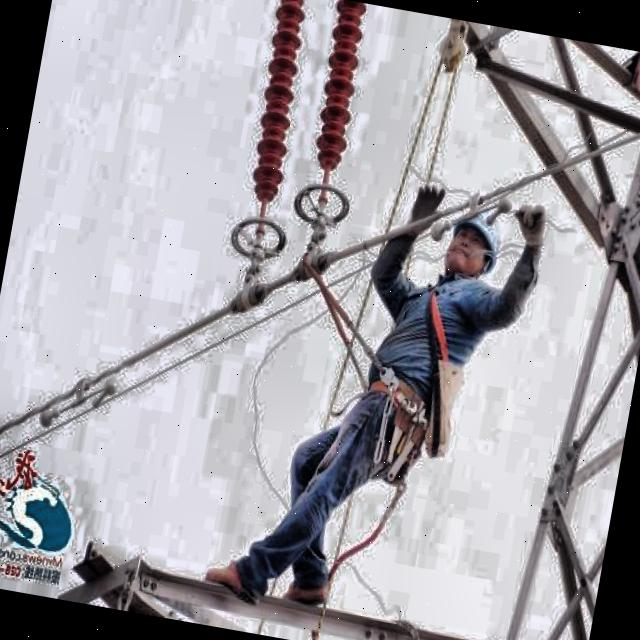helmet: (432, 200, 518, 290)
